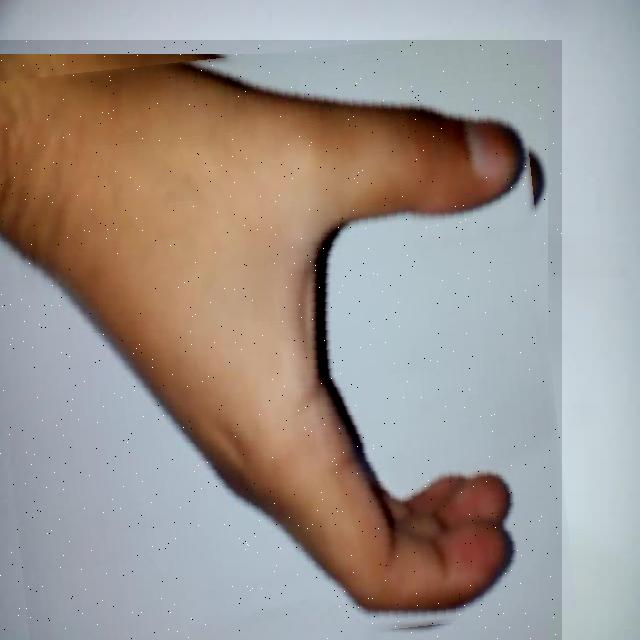C: (0, 40, 562, 640)
